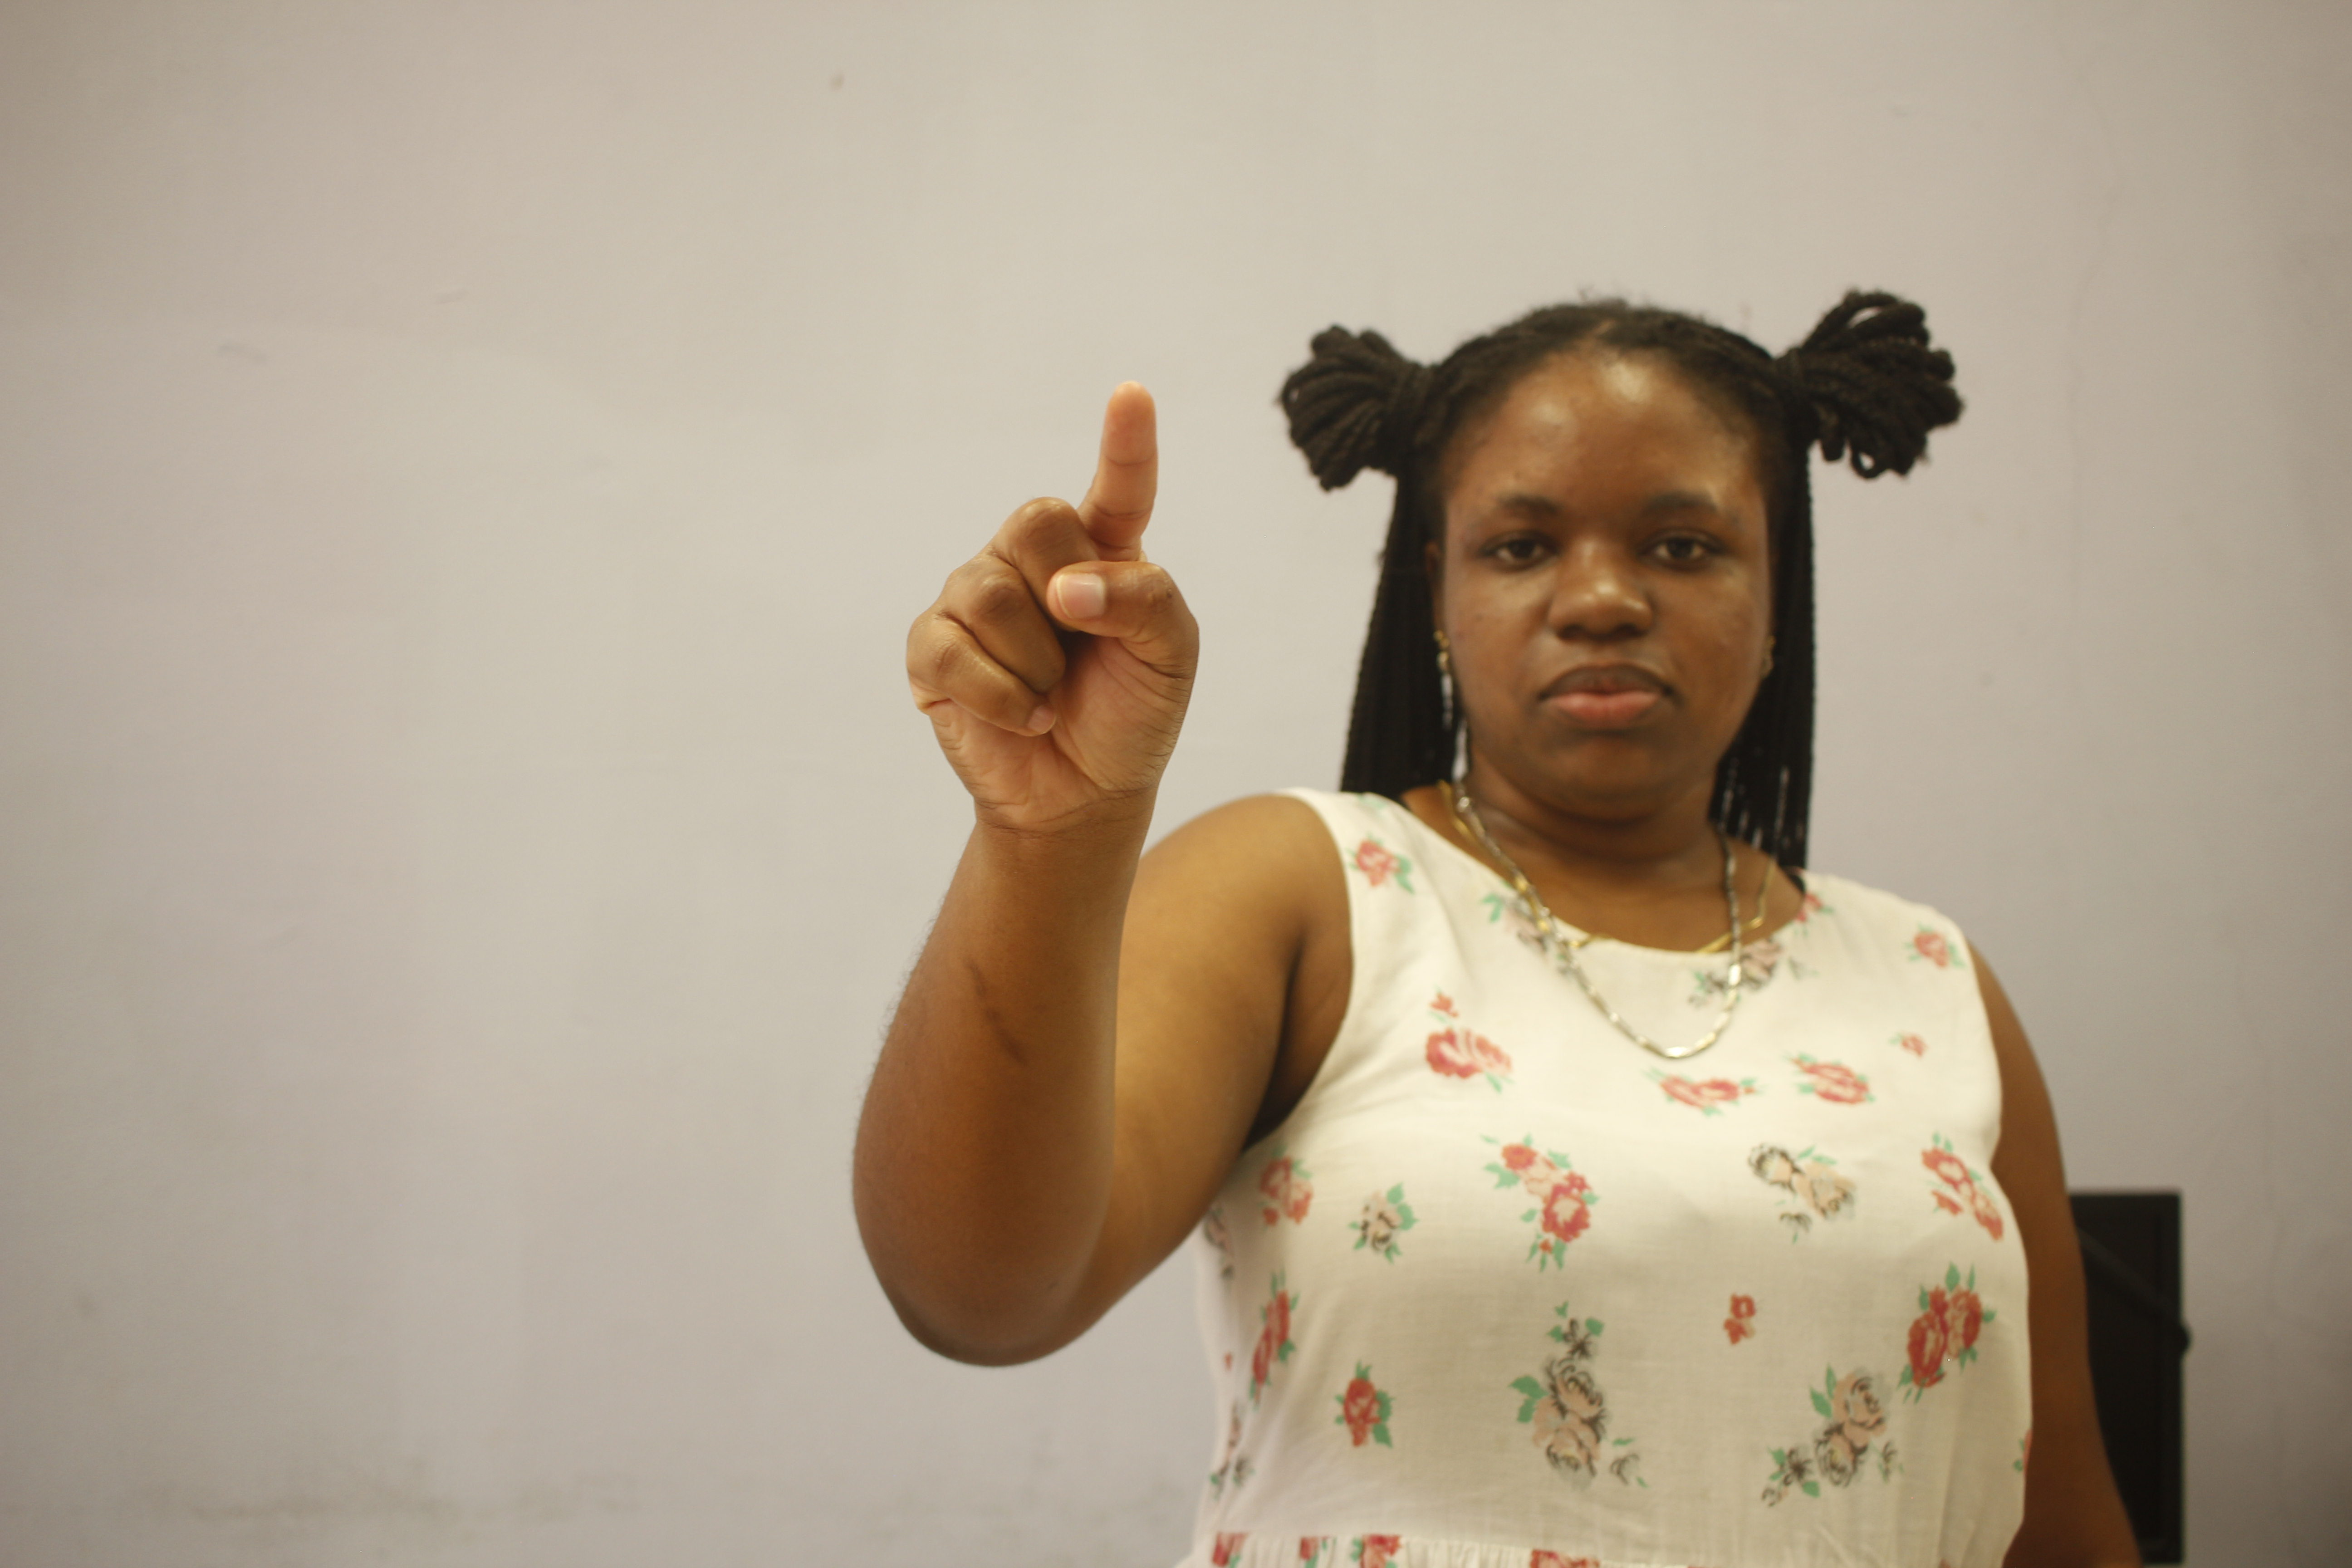Z: (887, 376, 1218, 819)
